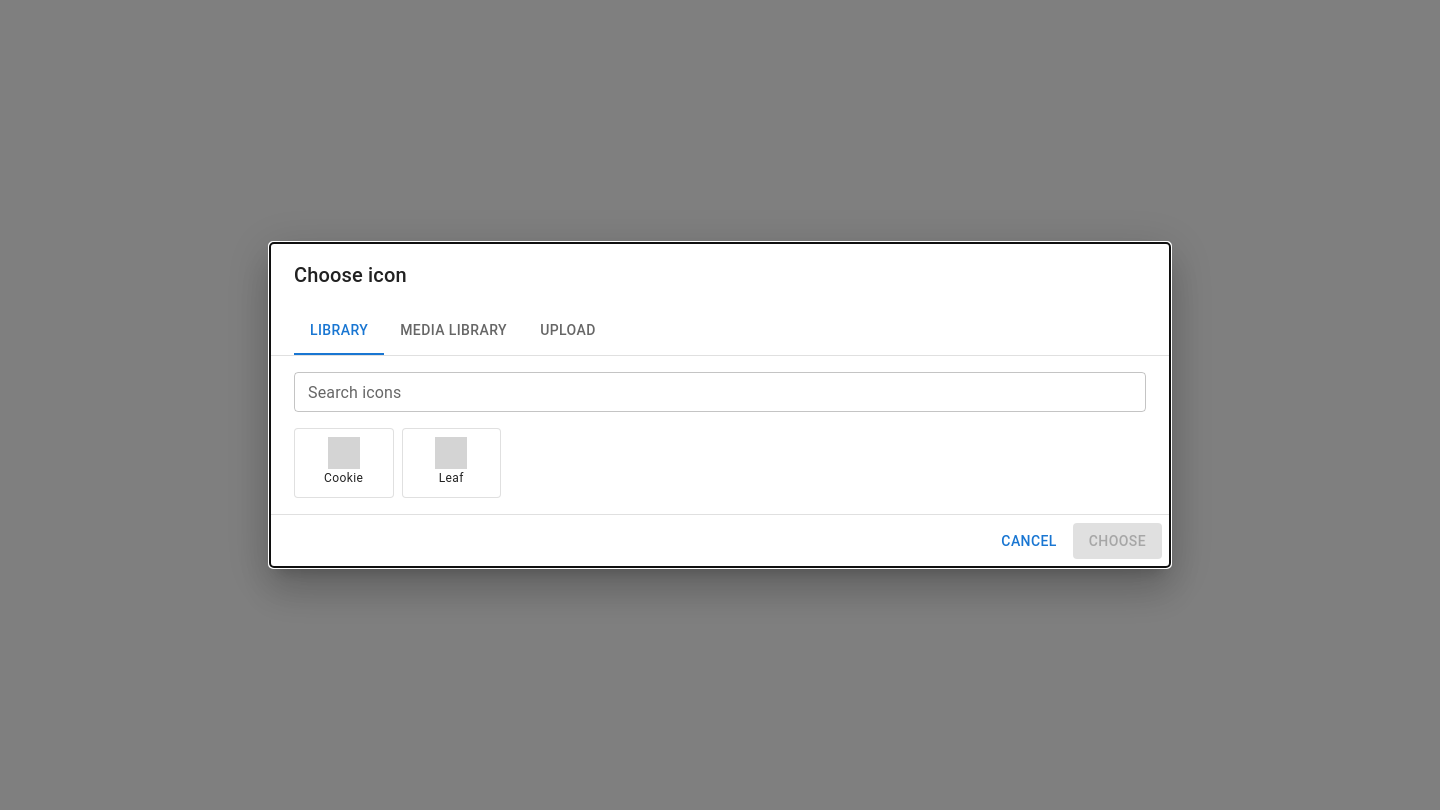
Test: IconPicker: library tab › filters the library by the search box and shows the icon image
Expected: the button with test id "icon-tile-leaf" is shown, [402,428,501,498]
Note: Search narrows the grid.
Step 1. Type "leaf" into the field labelled "Search icons" → (720, 392), box [294,372,1146,412]
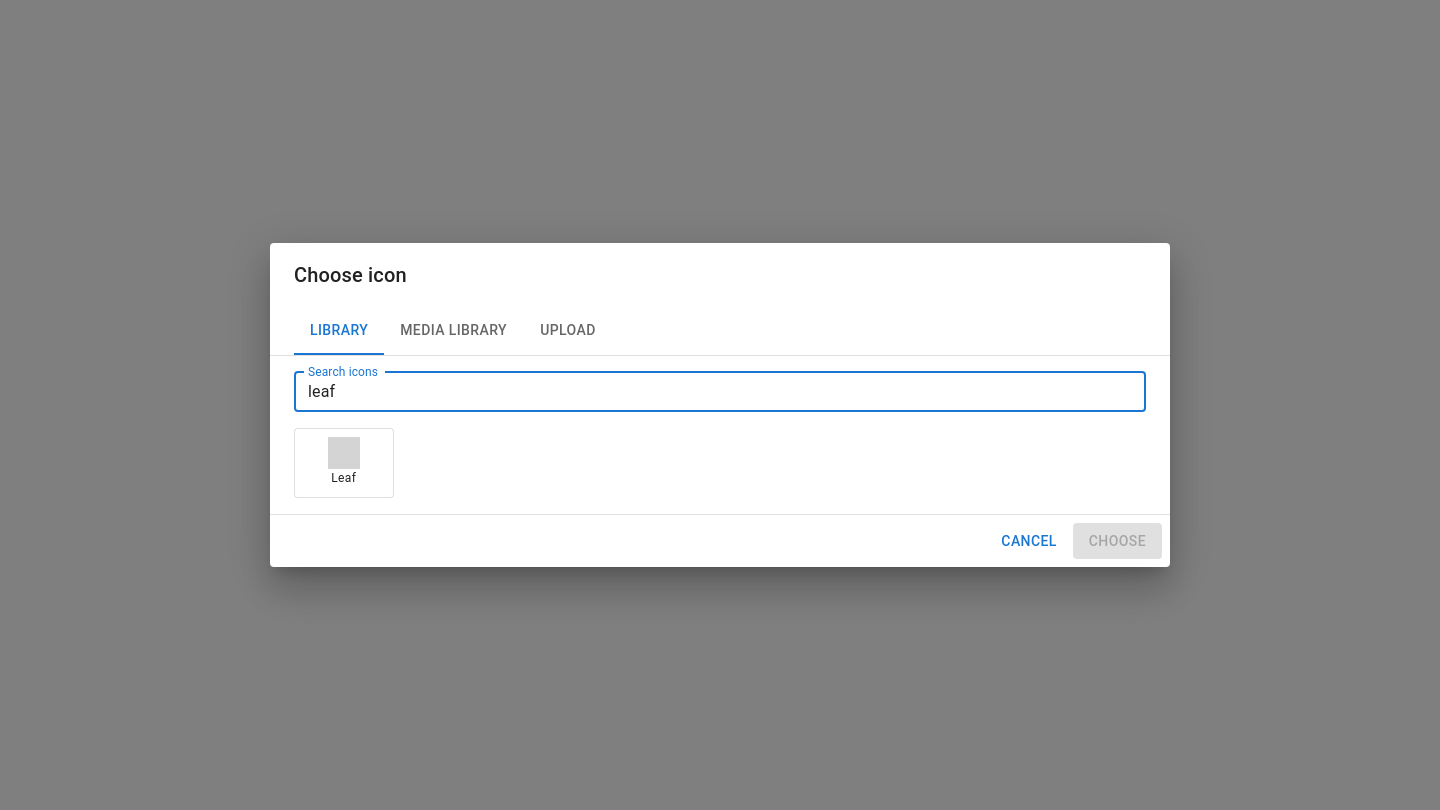
Expected: the button with test id "icon-tile-leaf" is shown, [294,428,394,498]
Expected: the button with test id "icon-tile-cookie" is gone
